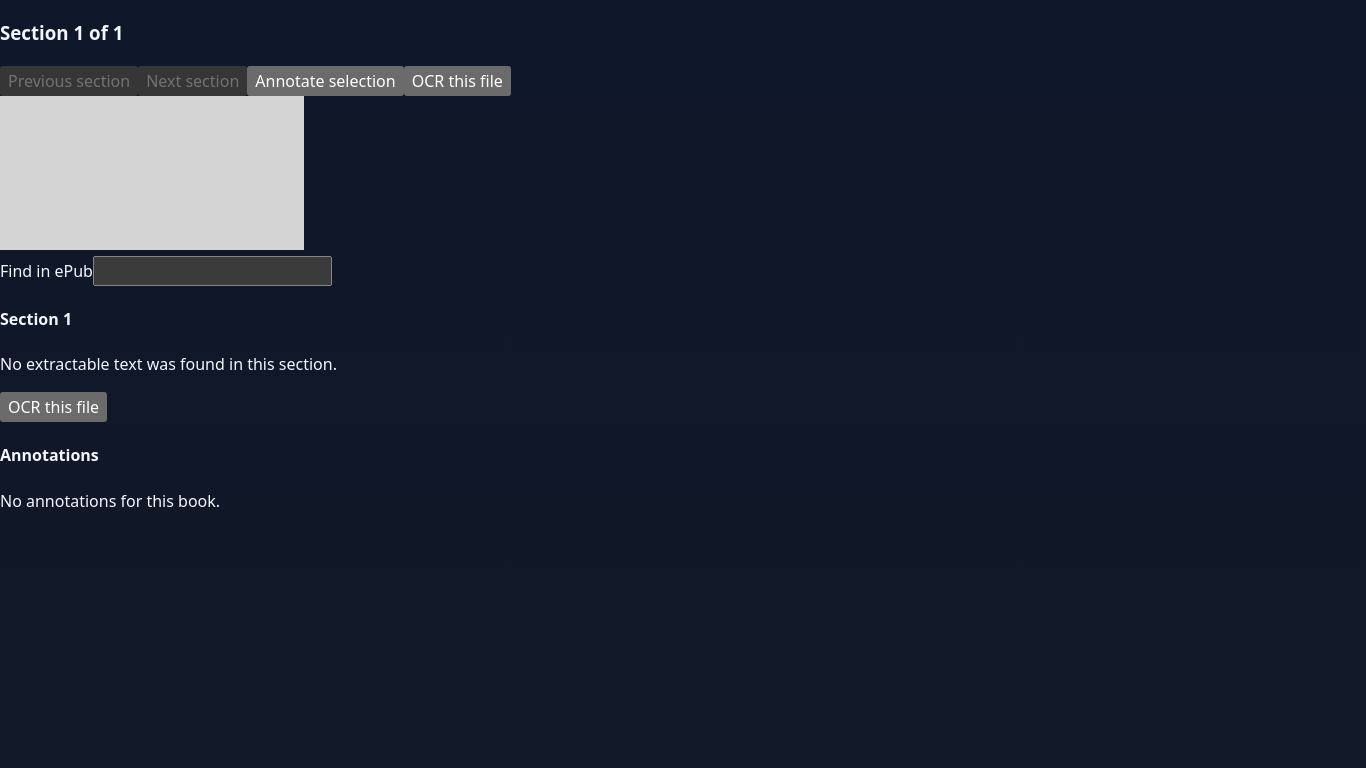
it: OCR in the document reader › keeps the temporary text after saving an Alius copy, and never touches the original
Click the 1st button "OCR this file" at (457, 80), box top-left (404, 66), bottom-right (511, 96)
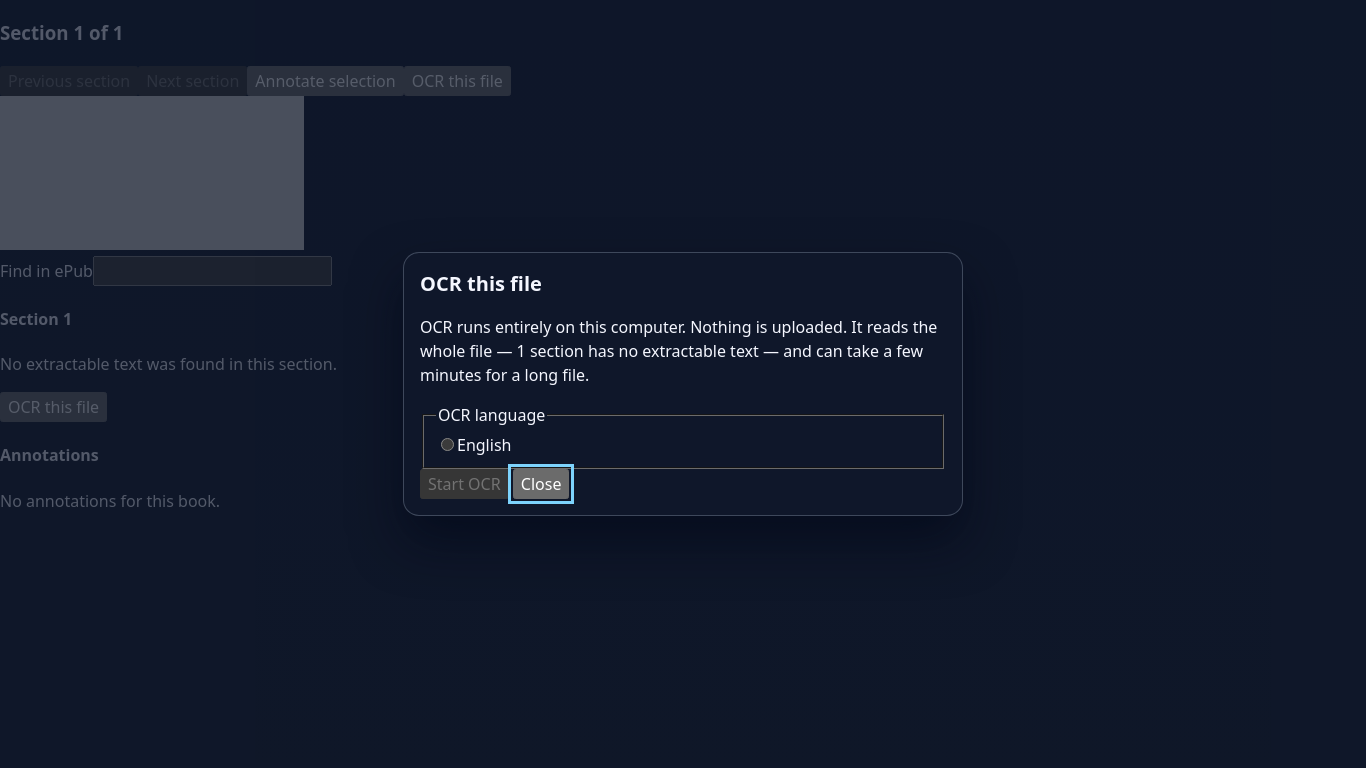
expect the radio button labelled "English" is shown: met
Click the radio button labelled "English" at (448, 444), box top-left (441, 438), bottom-right (454, 451)
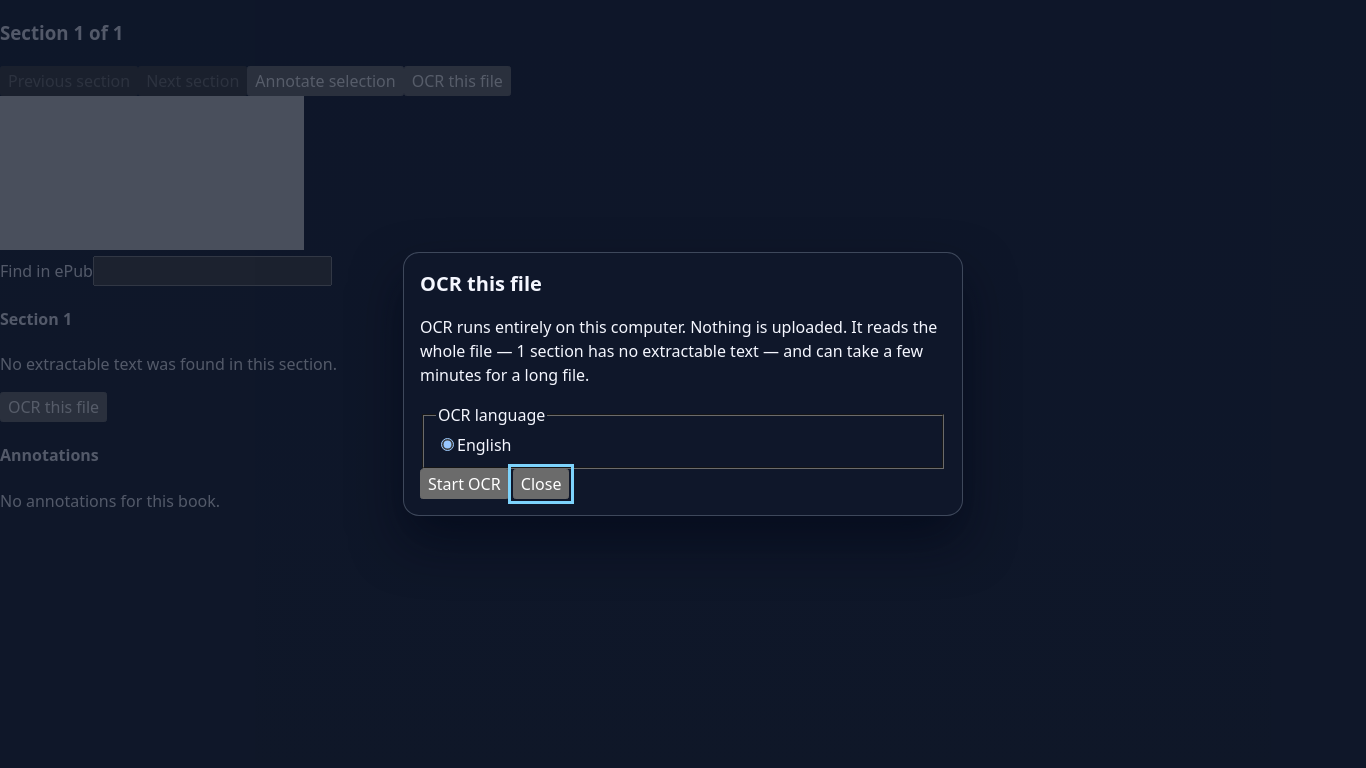
Click the button "Start OCR" at (464, 484), box top-left (420, 469), bottom-right (509, 499)
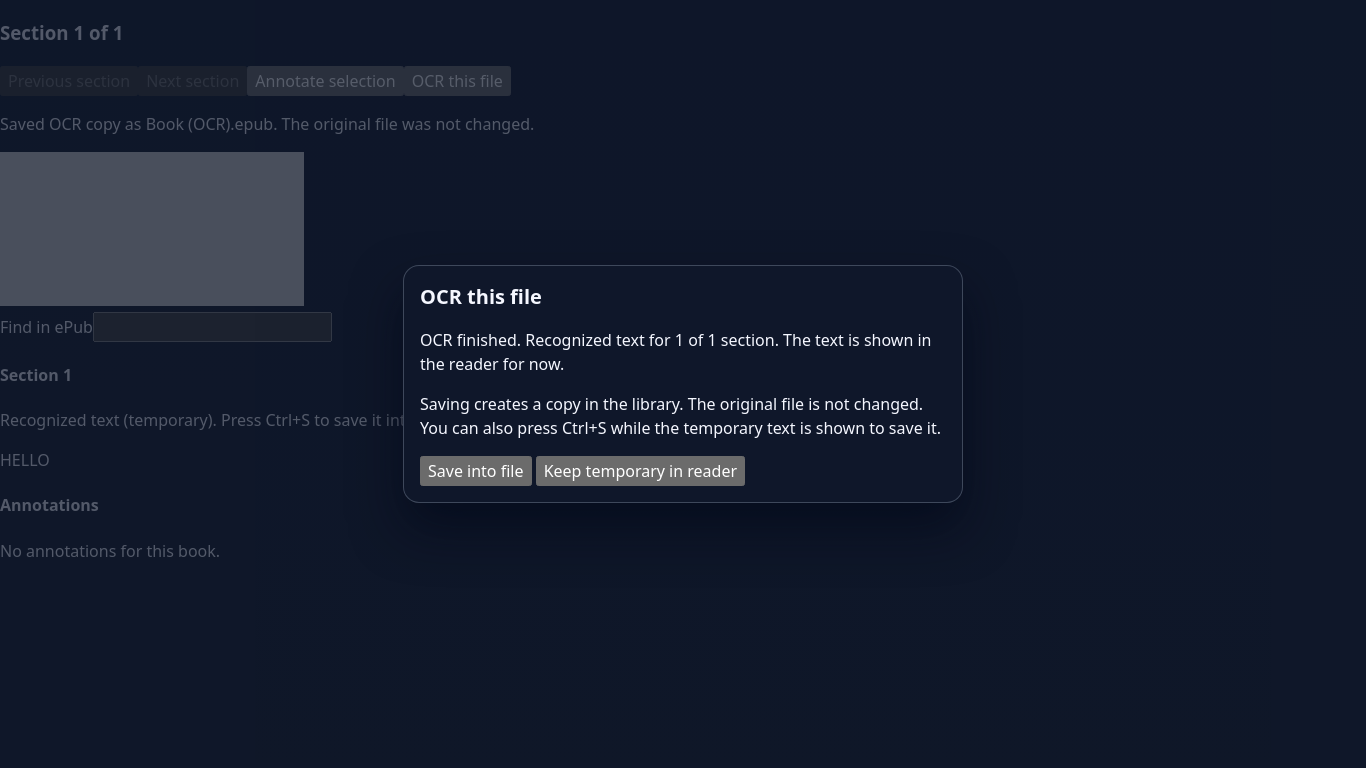
expect the text "Saved OCR copy as Book (OCR).epub. The original file was not changed." is shown: met, box top-left (0, 112), bottom-right (534, 134)
expect the text "HELLO" is shown: met, box top-left (0, 449), bottom-right (50, 471)
expect the text "Recognized text (temporary)" is shown: met, box top-left (0, 409), bottom-right (475, 431)
